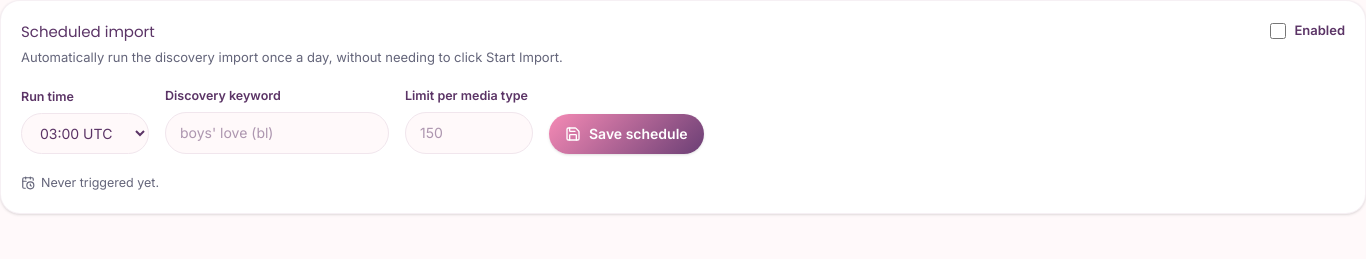
ImportScheduleSettings › saves enabled/runHourUtc/keyword/limitPerType as entered
The width and height of the screenshot is (1366, 259).
Click the checkbox labelled "Enabled": [1278, 31] box [1270,23,1286,39]
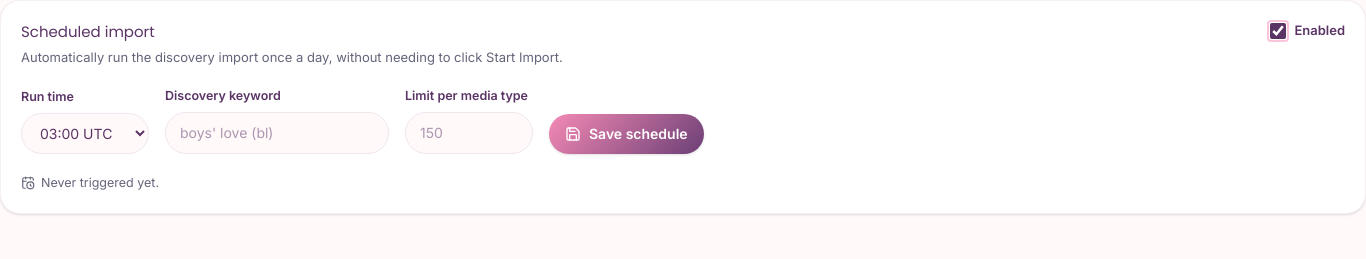
Select "09:00 UTC" in the dropdown labelled "Run time": [85, 133] box [21,113,149,154]
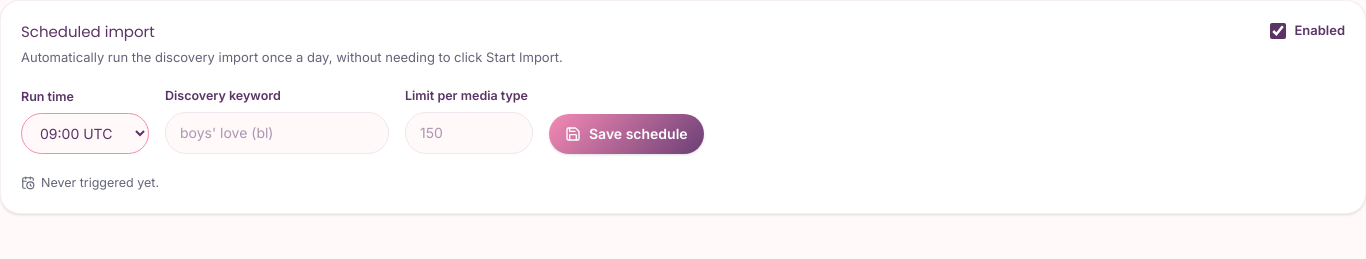
In the field labelled "Discovery keyword": [277, 133] box [165,112,389,154], type "thai bl"
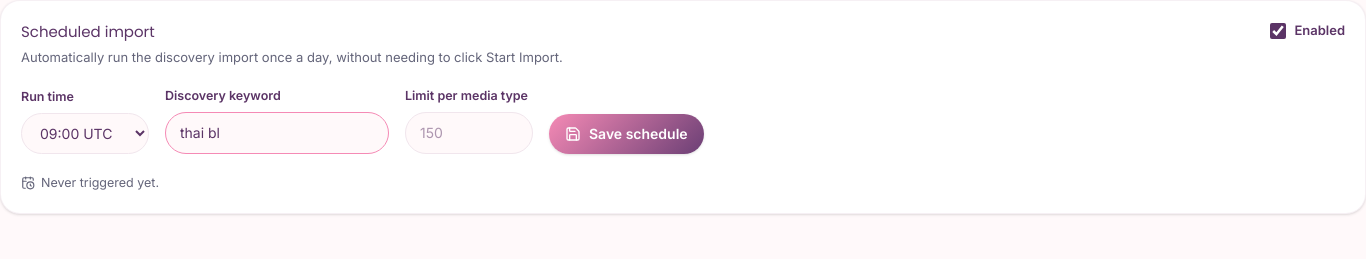
In the number field labelled "Limit per media type": [469, 133] box [405,112,533,154], type "300"
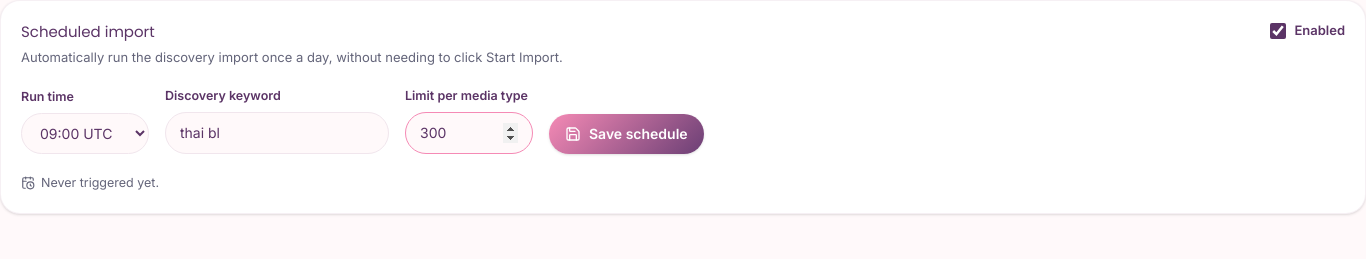
Click the button "Save schedule": [626, 134] box [549,114,704,154]
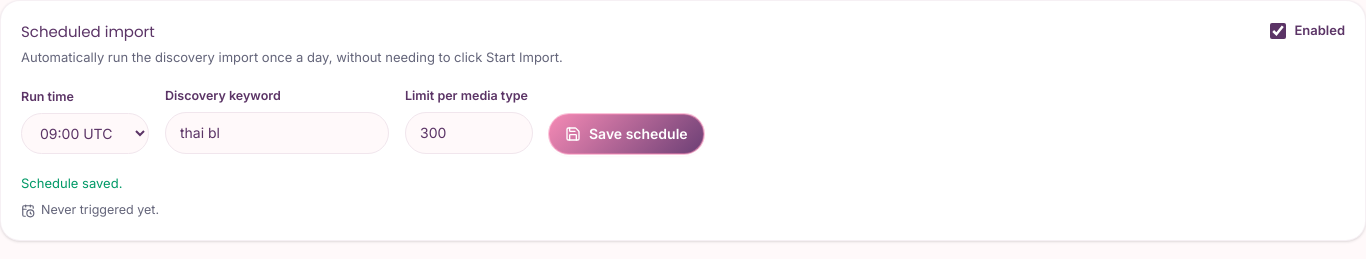
Result: the text "Schedule saved." is shown at [21,175,122,191]
